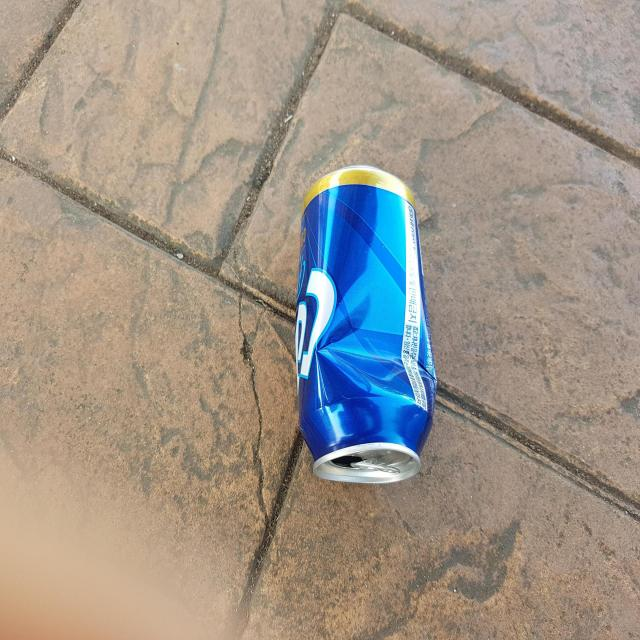can: (295, 165, 437, 484)
